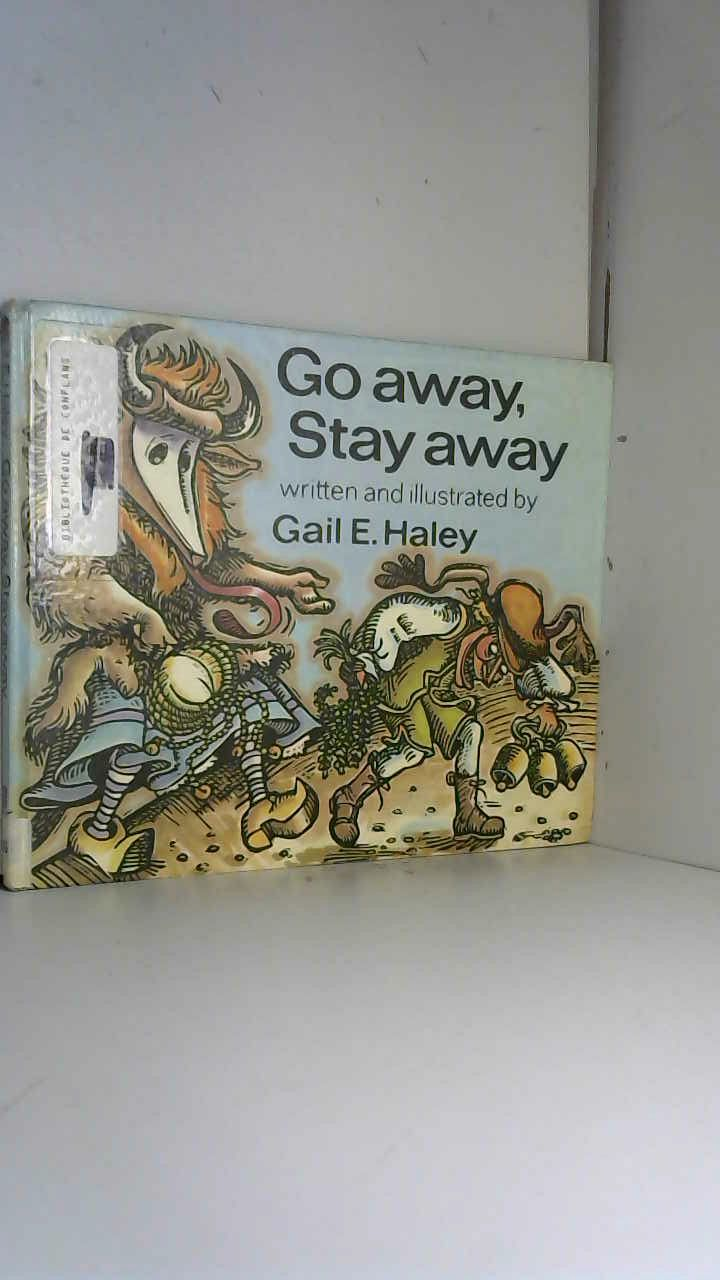book: (0, 266, 654, 905)
